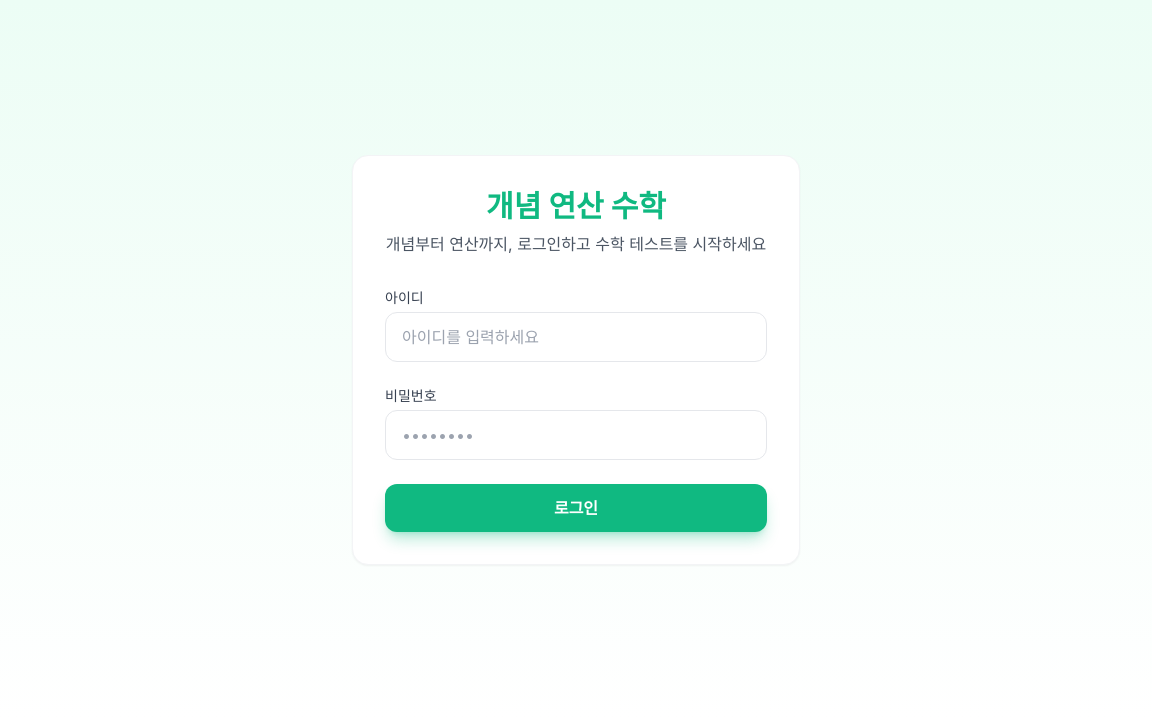
Scenario: LoginPage › 로딩 상태 › 로그인 요청 중에는 버튼이 비활성화된다
The width and height of the screenshot is (1152, 720).
Type "student01" into the field labelled "아이디" at (576, 337), box [385,312,767,362]
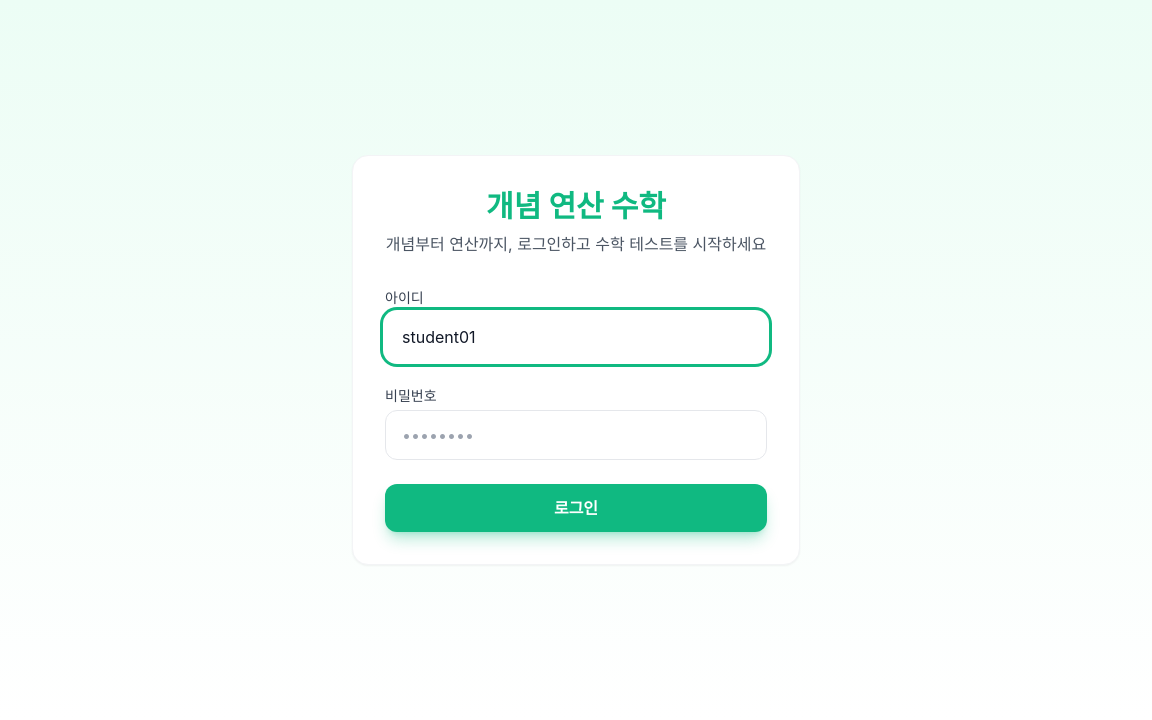
Type "password123" into the password field labelled "비밀번호" at (576, 435), box [385,410,767,460]
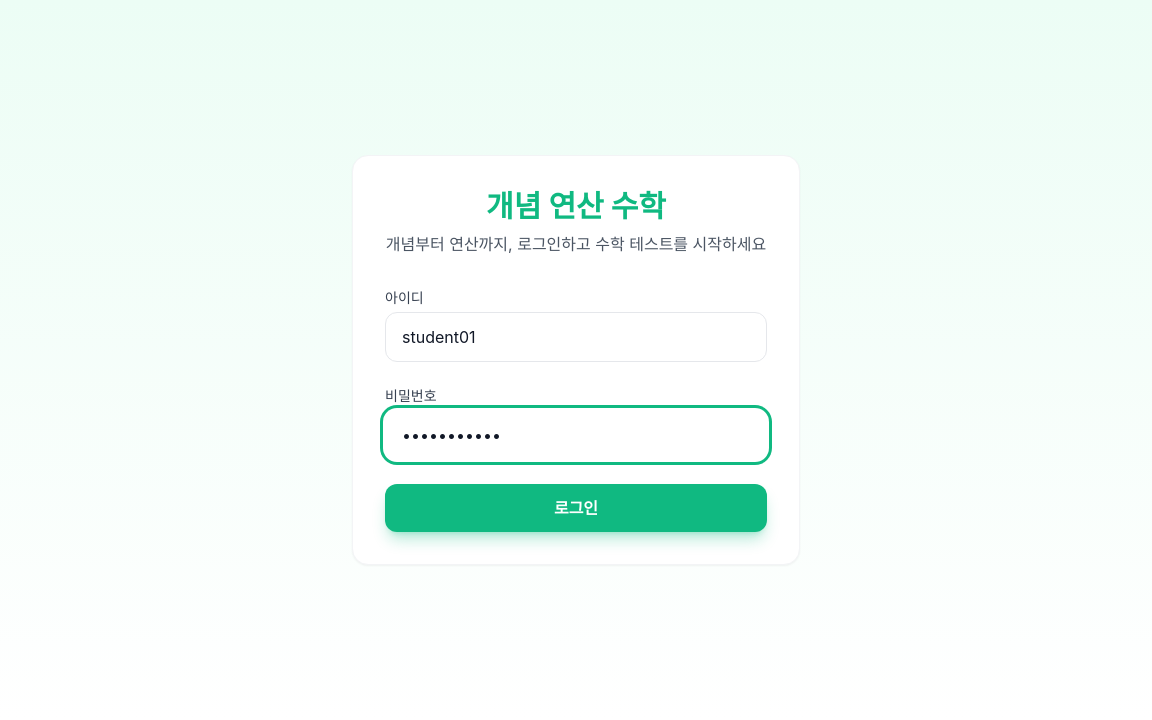
Click the button "로그인" at (576, 508), box [385,484,767,532]
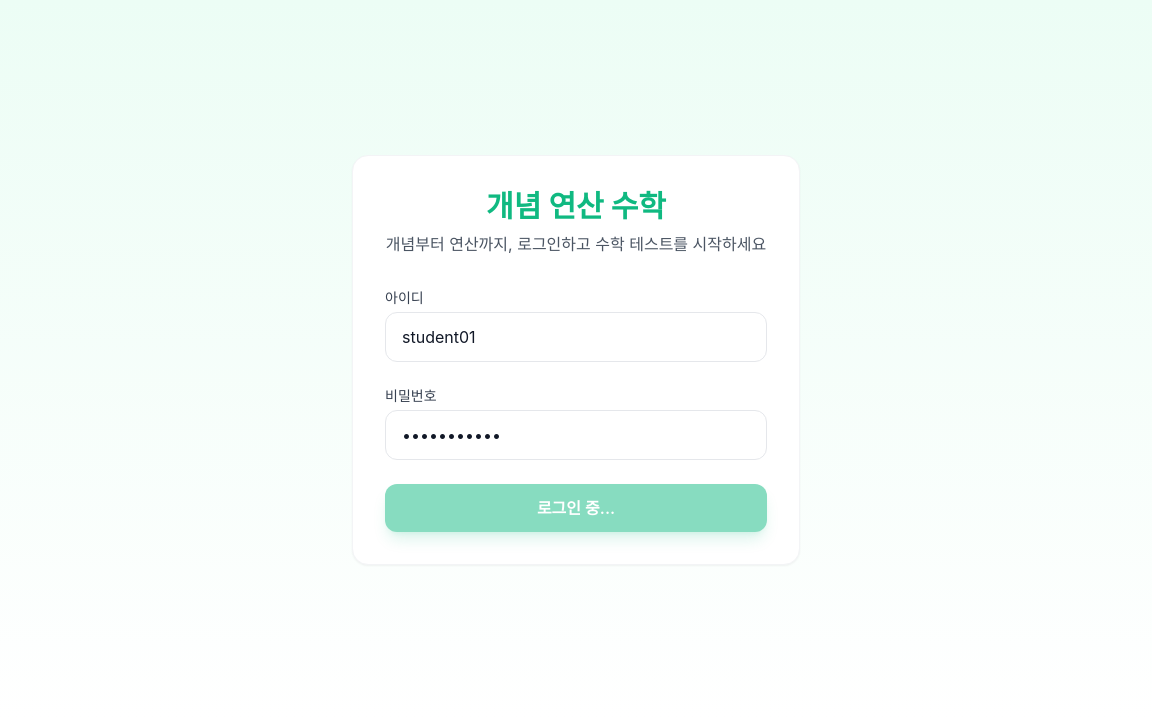
Check: the button "로그인 중..." is disabled, box [385,484,767,532]
